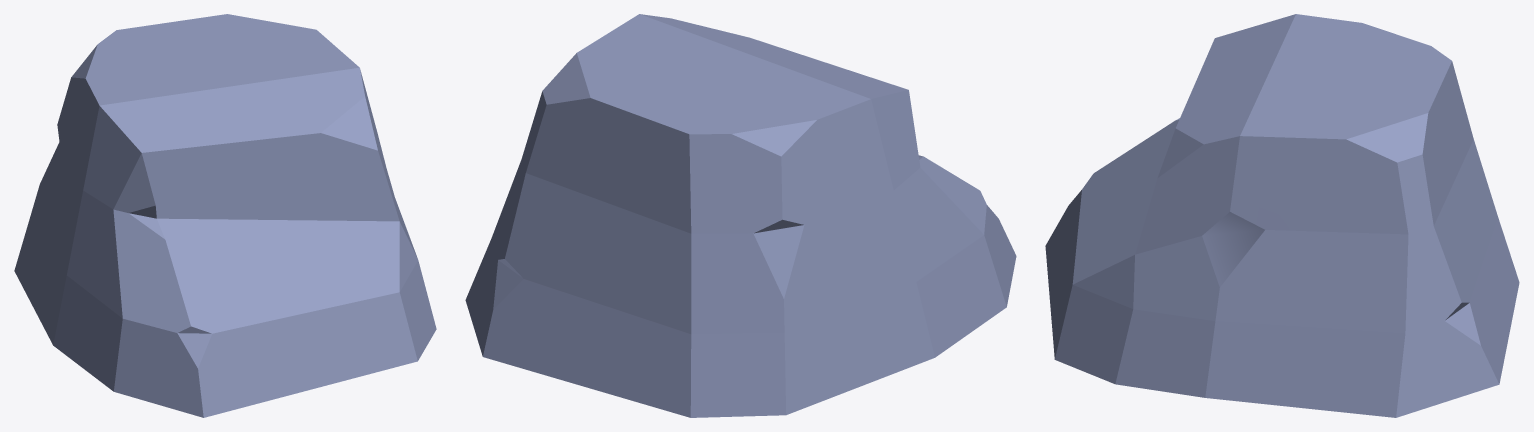
The model's file is Rock_39.fbx.
3 renders of one model, left to right at view 1: azimuth 30°, elevation 25°; view 2: azimuth 150°, elevation 25°; view 3: azimuth 270°, elevation 25°, orthographic. The views are drawn at different scales.
Visible parts, largest first — view 1: Rock_39; view 2: Rock_39; view 3: Rock_39.
Part boxes in pixels (<box>): Rock_39: <box>14,14,436,417</box>; Rock_39: <box>465,14,1016,417</box>; Rock_39: <box>1045,14,1519,417</box>.
Bounding box in the file's own units: 1.77 × 1.02 × 1.84.
